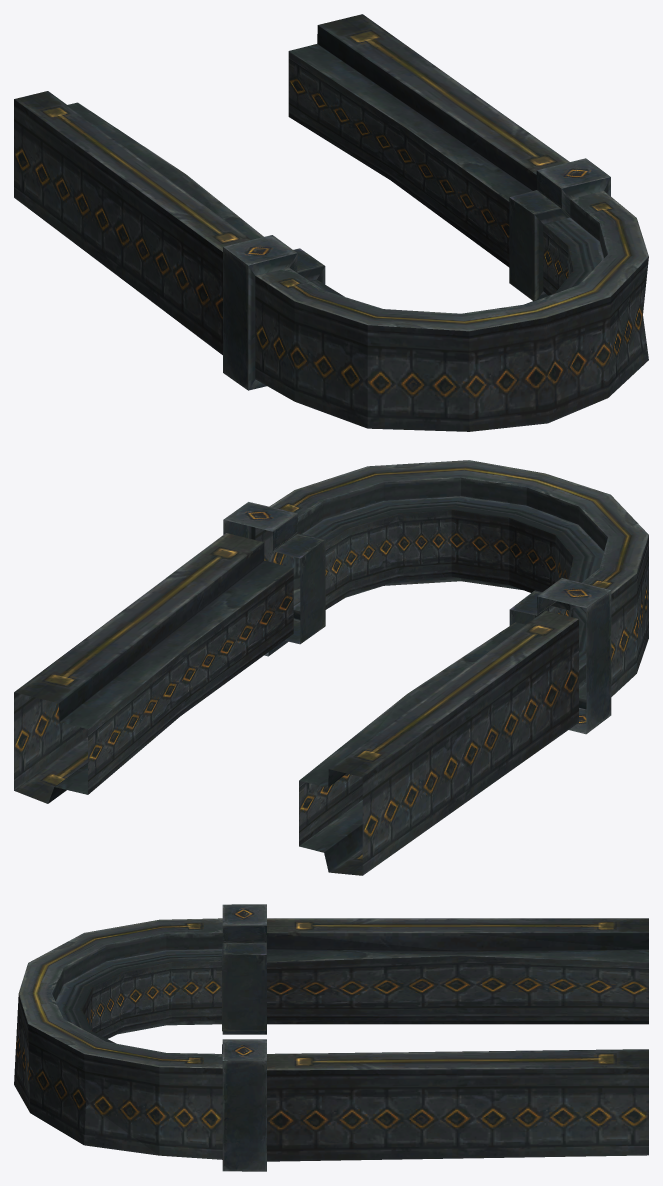
File: tanxian_fuben_257_gongmen.obj
3 renders of one model, top to bottom at view 1: azimuth 30°, elevation 25°; view 2: azimuth 150°, elevation 25°; view 3: azimuth 270°, elevation 25°, orthographic. The views are drawn at different scales.
Parts seen in each view (by area): view 1: tanxian_fuben_257_gongmen; view 2: tanxian_fuben_257_gongmen; view 3: tanxian_fuben_257_gongmen.
Boxes of the visible parts, box(x1,y1,x2,y2) form: tanxian_fuben_257_gongmen: box(14, 14, 648, 431); tanxian_fuben_257_gongmen: box(14, 460, 648, 875); tanxian_fuben_257_gongmen: box(14, 904, 648, 1171).
Bounding box in the file's own units: 112 × 37.3 × 193.
Materials: 1 (1 with a texture image).
